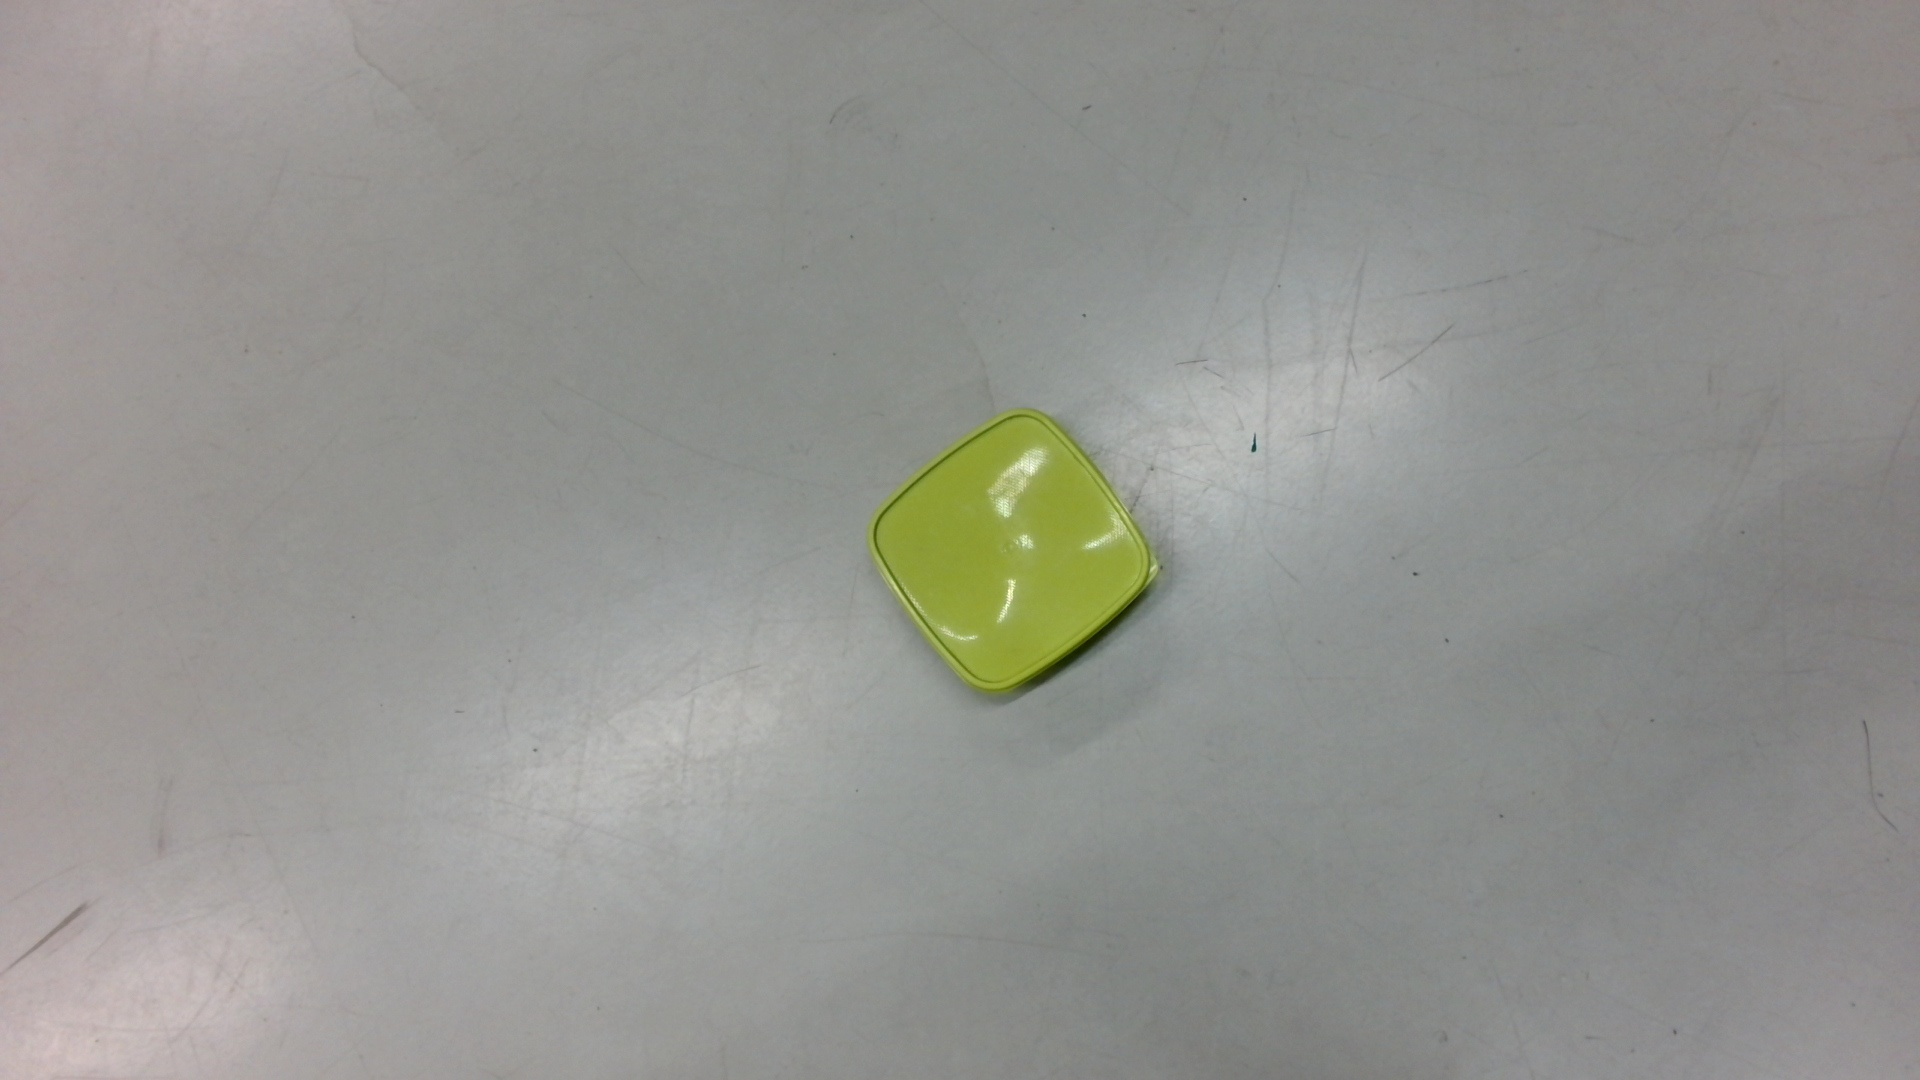Box: (862, 404, 1168, 707)
